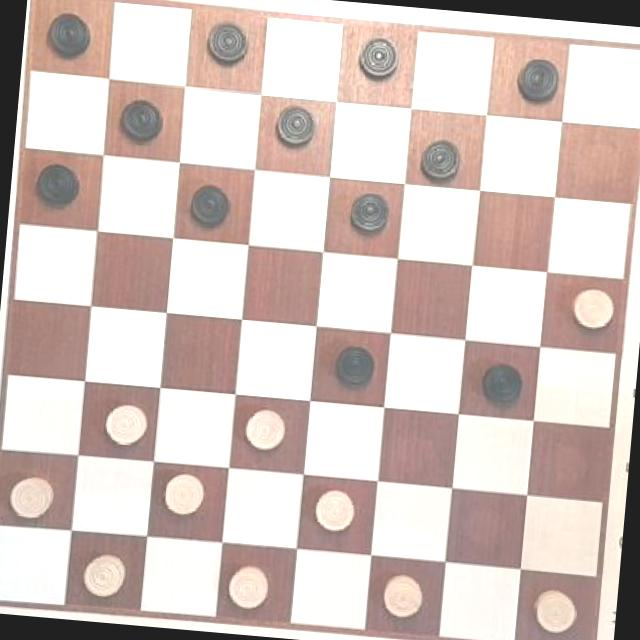BOARD: (0, 0, 640, 640)
black: (341, 183, 399, 240), (475, 352, 525, 410), (183, 178, 242, 226), (412, 132, 470, 180), (202, 15, 254, 67), (34, 158, 86, 210), (514, 48, 564, 102), (116, 94, 170, 144), (44, 7, 94, 57), (331, 338, 379, 390), (354, 30, 403, 80), (272, 102, 323, 150)
white: (524, 581, 584, 639), (222, 558, 278, 614), (93, 397, 151, 450), (562, 282, 618, 335), (158, 466, 211, 522), (4, 471, 56, 524), (310, 481, 359, 537), (375, 570, 426, 622), (240, 402, 290, 454), (78, 550, 128, 598)
